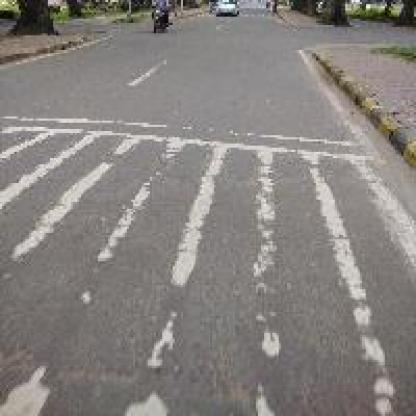Speed Bump: (2, 114, 412, 412)
